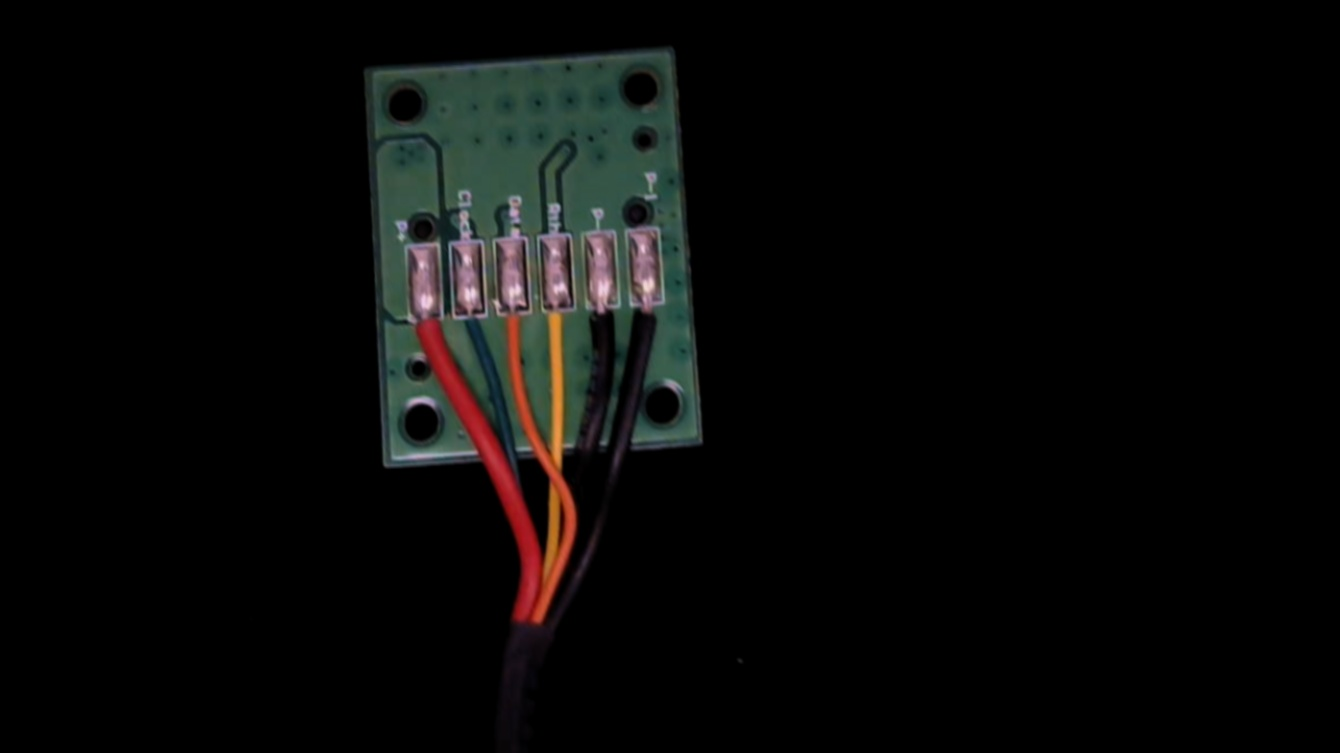Black: (583, 287, 623, 377)
Black1: (628, 286, 667, 369)
Green: (450, 293, 487, 365)
Orange: (495, 291, 532, 380)
Red: (407, 296, 445, 369)
Yellow: (538, 288, 579, 379)
